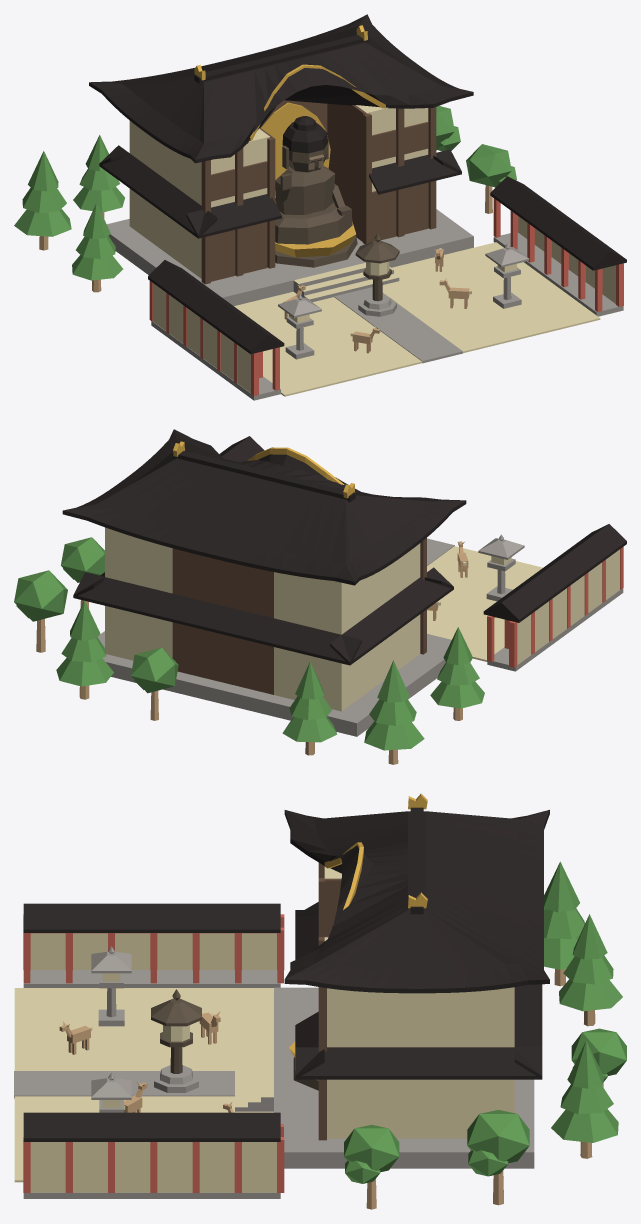
Rendered from todai-ji-daibutsu.glb.
3 renders of one model, top to bottom at view 1: azimuth 30°, elevation 25°; view 2: azimuth 150°, elevation 25°; view 3: azimuth 270°, elevation 25°, orthographic. The views are drawn at different scales.
Visible parts, largest first — view 1: todaiji_roof, todaiji_cream, todaiji_stone, todaiji_darkwood, todaiji_foliage, todaiji_bronze, todaiji_vermilion, todaiji_gold; view 2: todaiji_roof, todaiji_cream, todaiji_foliage, todaiji_darkwood, todaiji_stone, todaiji_vermilion, todaiji_wood, todaiji_gold; view 3: todaiji_roof, todaiji_cream, todaiji_stone, todaiji_foliage, todaiji_vermilion, todaiji_darkwood, todaiji_bronze, todaiji_wood, todaiji_gold.
Part boxes in pixels (<box>): todaiji_roof: <box>89,14,626,354</box>; todaiji_cream: <box>129,105,615,396</box>; todaiji_stone: <box>107,209,623,400</box>; todaiji_darkwood: <box>201,100,436,284</box>; todaiji_foliage: <box>14,106,516,280</box>; todaiji_bronze: <box>275,138,399,301</box>; todaiji_vermilion: <box>149,198,623,395</box>; todaiji_gold: <box>194,25,385,257</box>; todaiji_roof: <box>62,429,626,665</box>; todaiji_cream: <box>105,527,619,711</box>; todaiji_foliage: <box>14,537,484,750</box>; todaiji_darkwood: <box>172,538,426,694</box>; todaiji_stone: <box>97,534,623,736</box>; todaiji_vermilion: <box>487,547,623,667</box>; todaiji_wood: <box>36,600,462,764</box>; todaiji_gold: <box>173,441,355,498</box>; todaiji_roof: <box>23,807,549,1141</box>; todaiji_cream: <box>14,867,514,1192</box>; todaiji_stone: <box>14,946,534,1198</box>; todaiji_foliage: <box>344,861,626,1183</box>; todaiji_vermilion: <box>23,914,284,1192</box>; todaiji_darkwood: <box>318,863,341,1140</box>; todaiji_bronze: <box>151,989,318,1090</box>; todaiji_wood: <box>366,969,603,1209</box>; todaiji_gold: <box>289,793,427,1057</box>.
Size of the model in its own units: 18.62 by 8.47 by 18.85.
